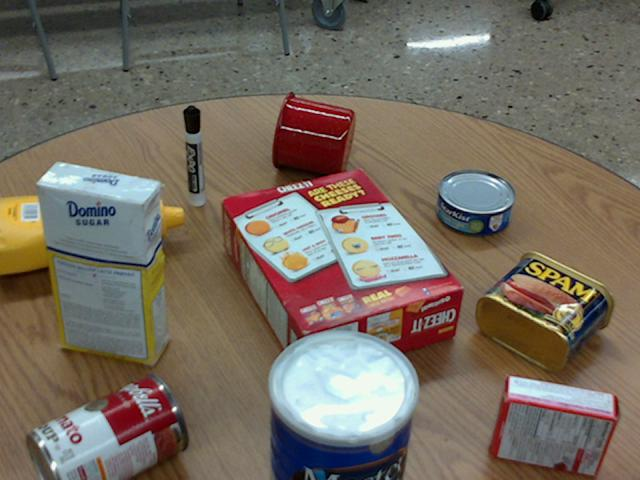cracker_box: (219, 169, 462, 376)
gelatin_box: (490, 374, 616, 474)
large_marker: (182, 105, 203, 205)
master_chef_can: (266, 330, 416, 479)
mug: (272, 91, 354, 176)
mustard_bottle: (0, 189, 182, 274)
potted_meat_can: (477, 250, 613, 371)
sugar_box: (36, 161, 164, 365)
tomato_soup_can: (27, 373, 187, 479)
tuna_fish_can: (436, 169, 515, 234)
